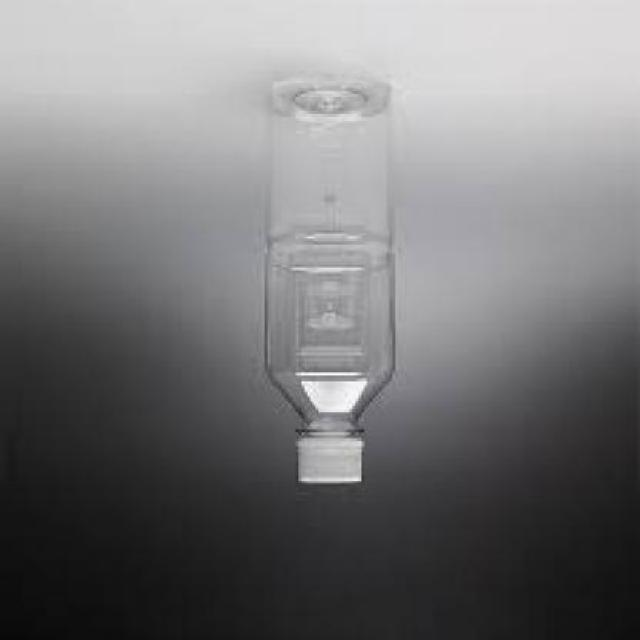PLASTIC: (266, 76, 394, 483), (299, 438, 361, 483)
